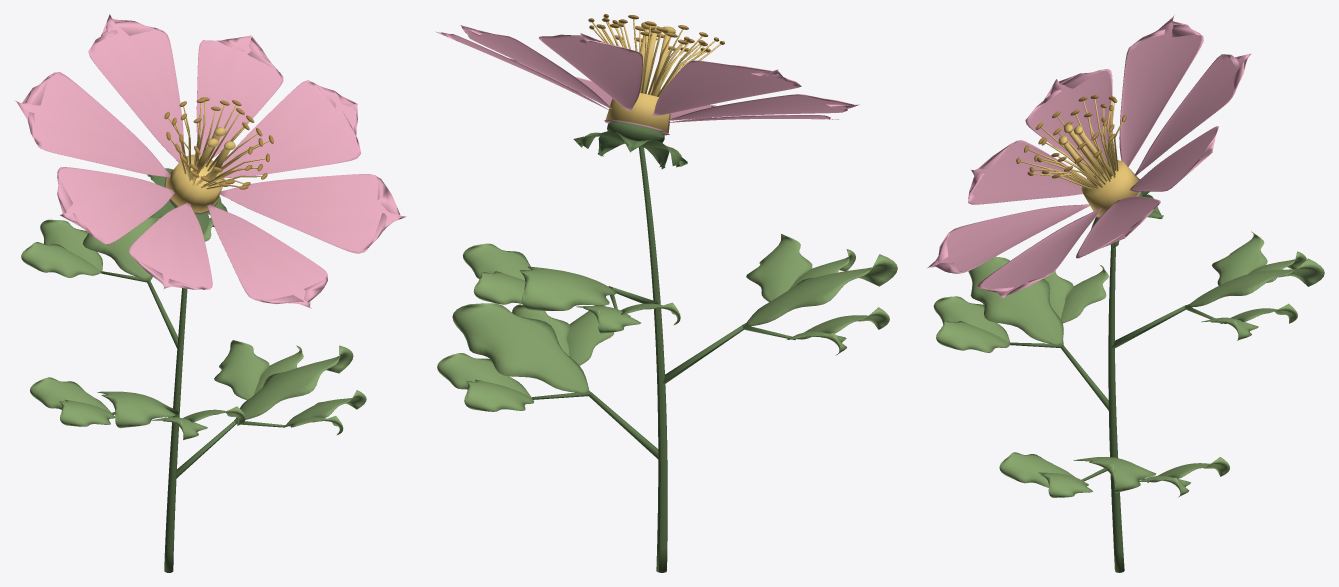
The model's file is peony-common-v2.glb.
3 renders of one model, left to right at view 1: azimuth 30°, elevation 25°; view 2: azimuth 150°, elevation 25°; view 3: azimuth 270°, elevation 25°, orthographic. The views are drawn at different scales.
Visible parts, largest first — view 1: peony-common-v2-petal, peony-common-v2-leaf, peony-common-v2-center, peony-common-v2-stem, peony-common-v2-pollen; view 2: peony-common-v2-leaf, peony-common-v2-petal, peony-common-v2-stem, peony-common-v2-center, peony-common-v2-pollen; view 3: peony-common-v2-petal, peony-common-v2-leaf, peony-common-v2-center, peony-common-v2-stem, peony-common-v2-pollen.
Part boxes in pixels (x1,y1,x2,y2): peony-common-v2-petal: (15,14,406,308); peony-common-v2-leaf: (21,217,366,440); peony-common-v2-center: (165,101,269,212); peony-common-v2-stem: (101,168,285,572); peony-common-v2-pollen: (164,97,273,189); peony-common-v2-leaf: (437,234,897,411); peony-common-v2-petal: (435,25,859,135); peony-common-v2-stem: (532,121,795,572); peony-common-v2-center: (592,19,720,132); peony-common-v2-pollen: (588,14,724,52); peony-common-v2-petal: (927,15,1250,299); peony-common-v2-leaf: (933,231,1324,497); peony-common-v2-center: (1020,99,1139,216); peony-common-v2-stem: (1010,191,1222,572); peony-common-v2-pollen: (1016,95,1126,178).
Size of the model in its own units: 1.26 by 1.77 by 1.23.
